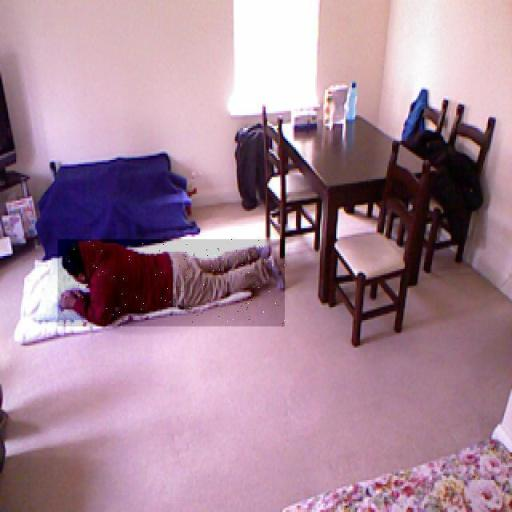Fall: (58, 240, 285, 327)
